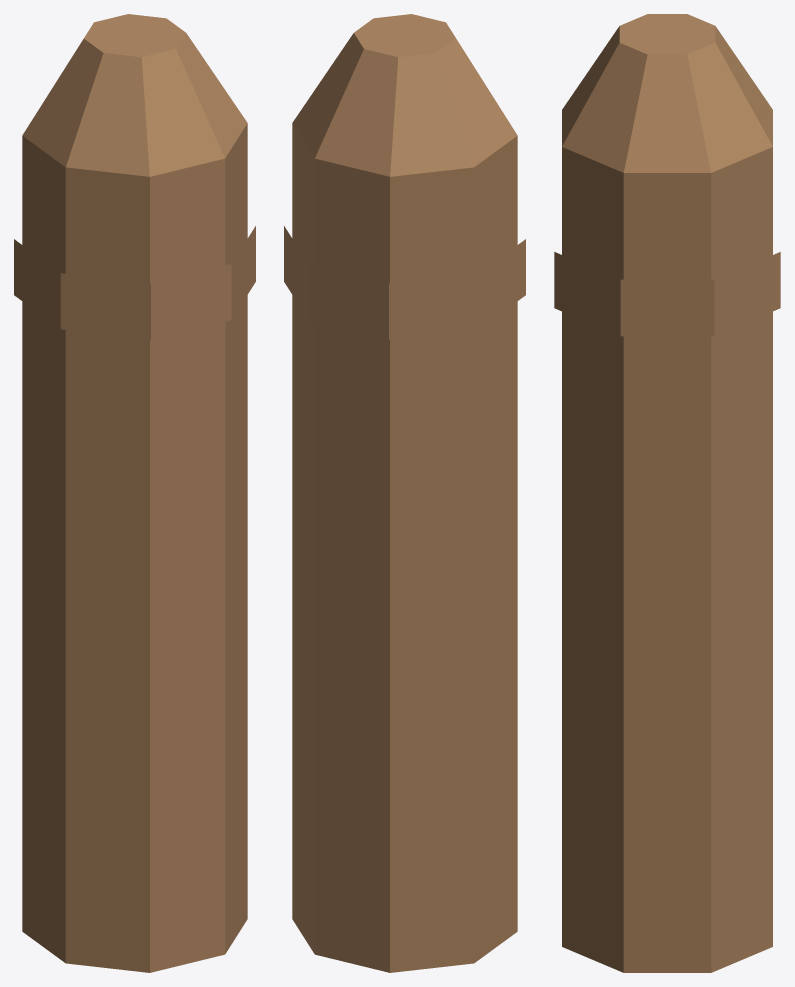
Rendered from bollard.glb.
3 renders of one model, left to right at view 1: azimuth 30°, elevation 25°; view 2: azimuth 150°, elevation 25°; view 3: azimuth 270°, elevation 25°, orthographic.
Visible parts, largest first — view 1: bollard; view 2: bollard; view 3: bollard.
Part boxes in pixels (left/top/right/bottom): bollard: left=14, top=14, right=255, bottom=972; bollard: left=284, top=14, right=525, bottom=972; bollard: left=554, top=14, right=780, bottom=972.
Bounding box in the file's own units: 0.218 × 0.95 × 0.218.
